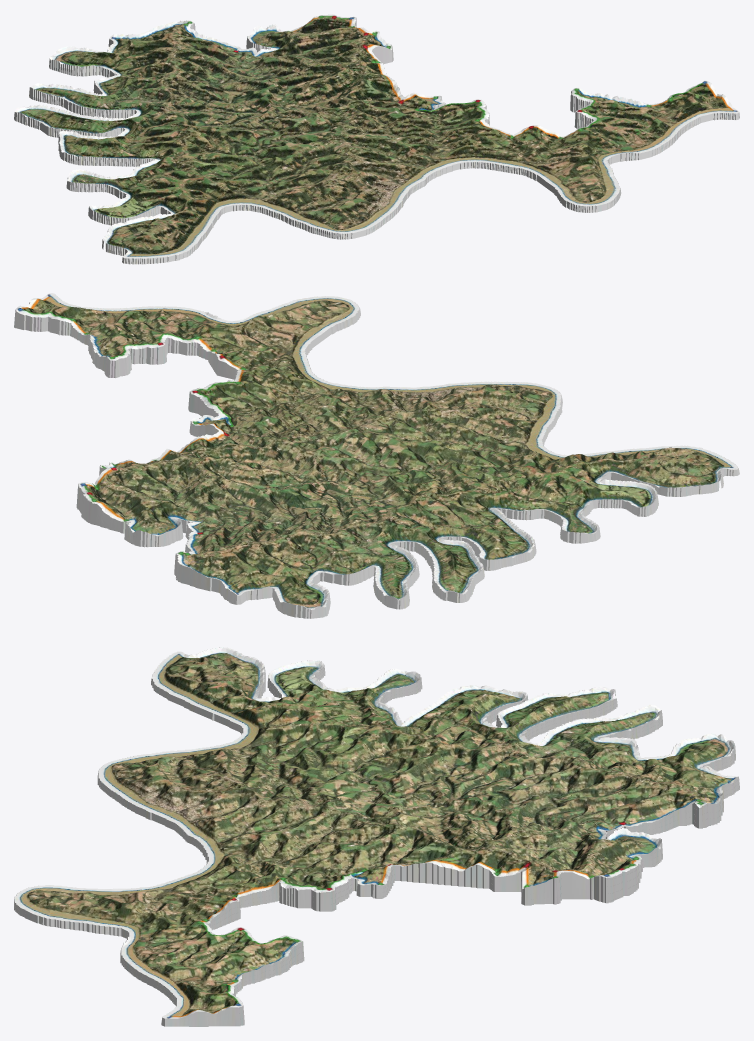
3 renders of one model, top to bottom at view 1: azimuth 30°, elevation 25°; view 2: azimuth 150°, elevation 25°; view 3: azimuth 270°, elevation 25°, orthographic. The views are drawn at different scales.
Bounding box in the file's own units: 0.9999 × 0.0339 × 0.8294.
Materials: 1 (1 with a texture image).
